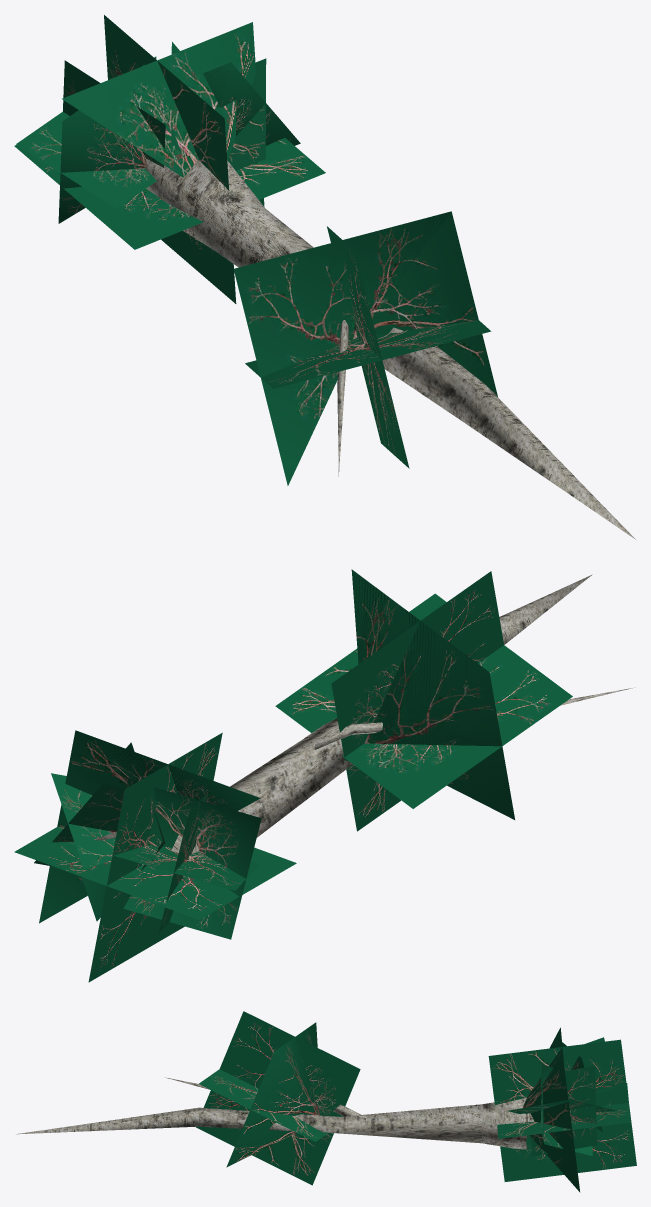
Rendered from decd_whitebirchlog_lg_l1.fbx.
3 views of the same model, one above another, from view 1: azimuth 30°, elevation 25°; view 2: azimuth 150°, elevation 25°; view 3: azimuth 270°, elevation 25° (orthographic). The views are drawn at different scales.
Visible parts, largest first — view 1: mesh_node; view 2: mesh_node; view 3: mesh_node.
Boxes of the visible parts, left/top/right/bottom form: mesh_node: left=14, top=15, right=635, bottom=539; mesh_node: left=14, top=569, right=635, bottom=982; mesh_node: left=16, top=1011, right=636, bottom=1192.
Size of the model in its own units: 4.59 by 3.91 by 14.68.
